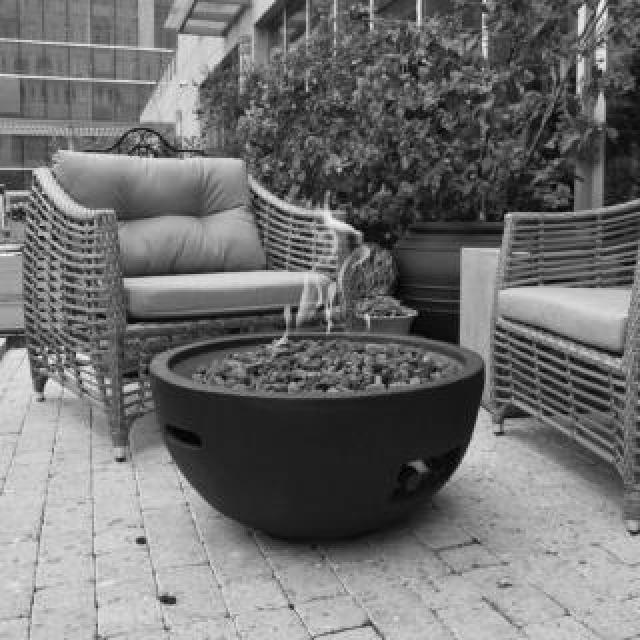Fire: (266, 184, 366, 352)
